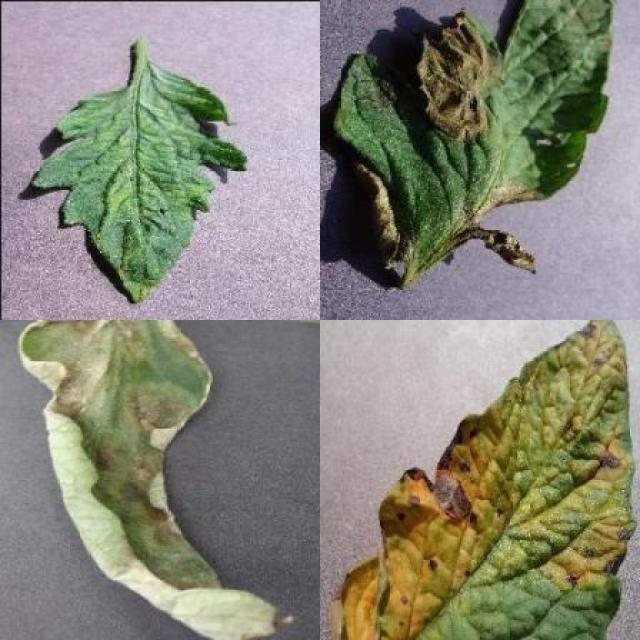Early Blight: (337, 320, 636, 640)
Late Blight: (19, 320, 295, 640), (332, 0, 615, 286)
Mosaic Virus: (32, 61, 248, 306)
